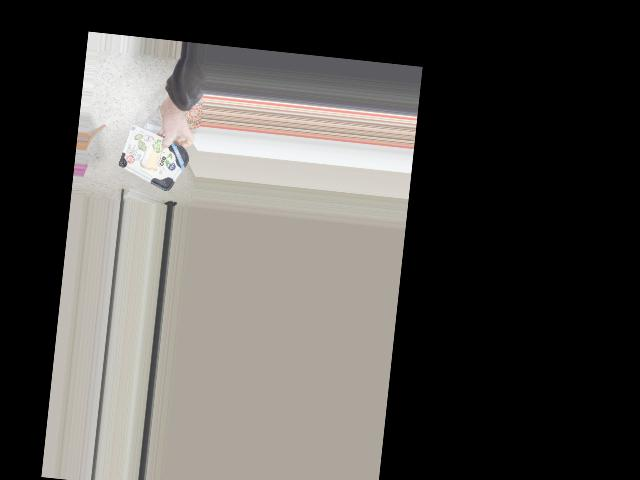cheese: (117, 134, 193, 188)
